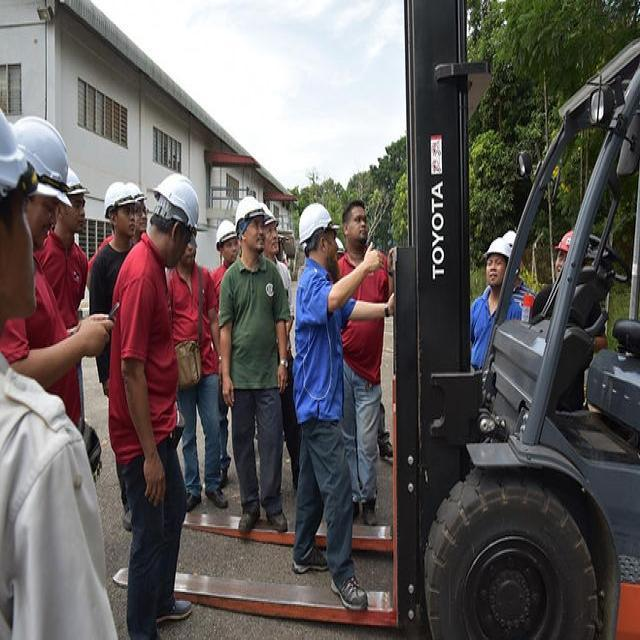forklift: (368, 39, 632, 629)
person: (1, 102, 118, 640), (112, 170, 200, 640), (294, 201, 361, 619), (222, 189, 296, 540), (338, 194, 382, 522), (25, 127, 61, 255), (109, 179, 135, 263), (480, 233, 512, 284)
